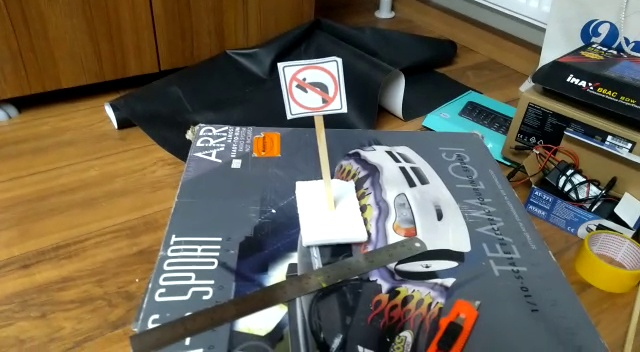sola_donulmez: (290, 63, 338, 114)
